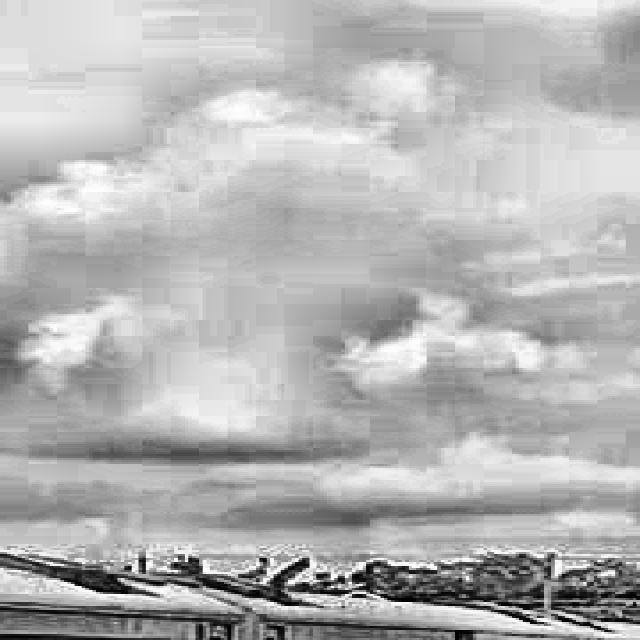Kereta: (0, 410, 238, 640), (150, 554, 604, 640), (554, 606, 640, 640)
